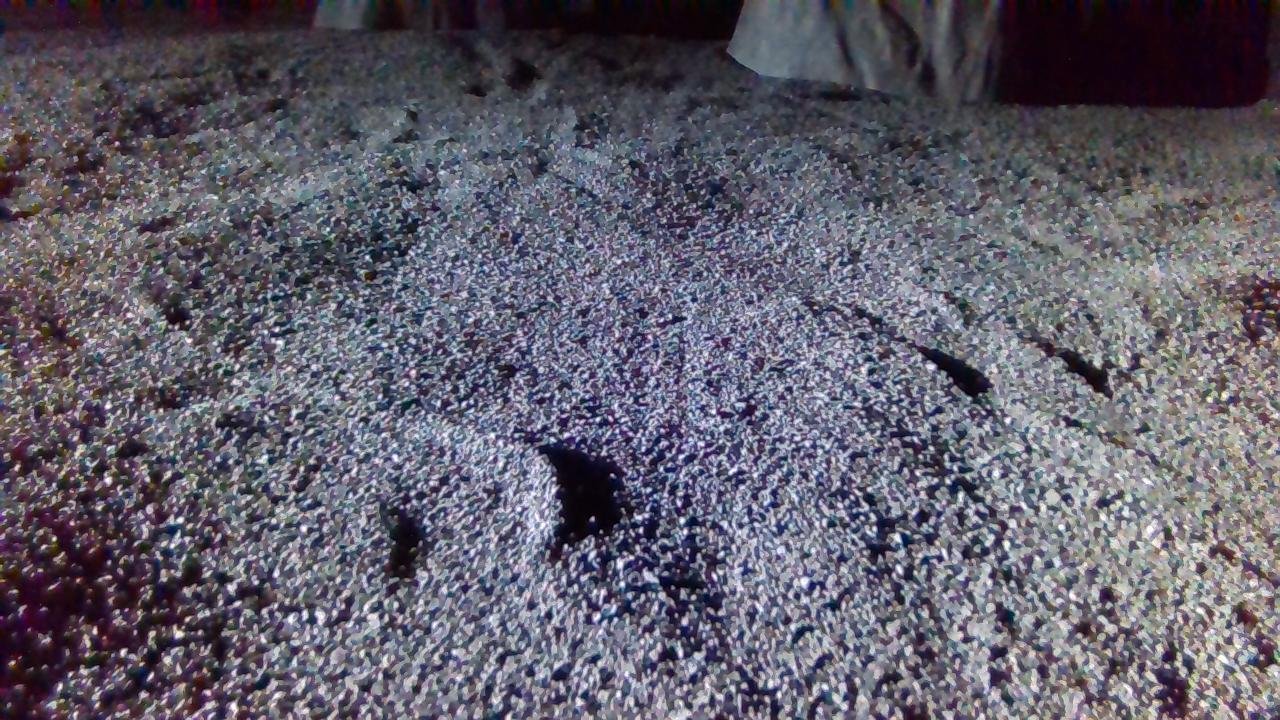rock: (729, 0, 1000, 102), (312, 0, 475, 28)
